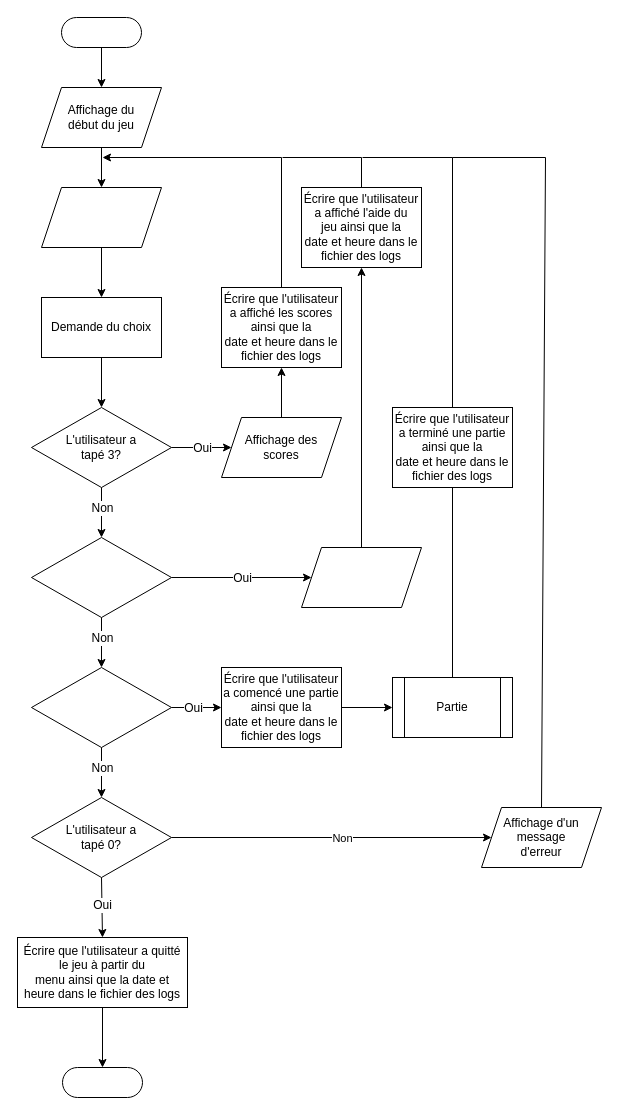
Image size: 619x1115. Some labels were removed from this diagram. Here are the shapes that lost their labels. From the top down, the centre of each, then its label:
At pixel 101 32: "Début".
At pixel 101 217: "Affichage du menu".
At pixel 101 577: "L'utilisateur a tapé 2?".
At pixel 361 577: "Affichage de l'aide du jeu".
At pixel 101 707: "L'utilisateur a tapé 1?".
At pixel 102 1082: "Fin".
